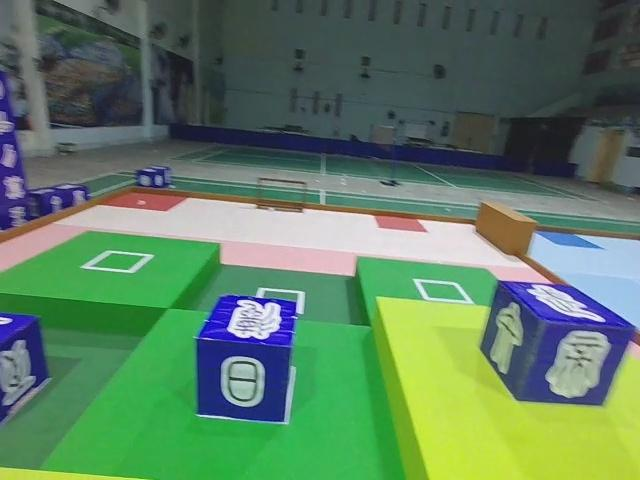R2 Fake Blue: (481, 281, 635, 408), (198, 295, 300, 428), (0, 313, 49, 439)
